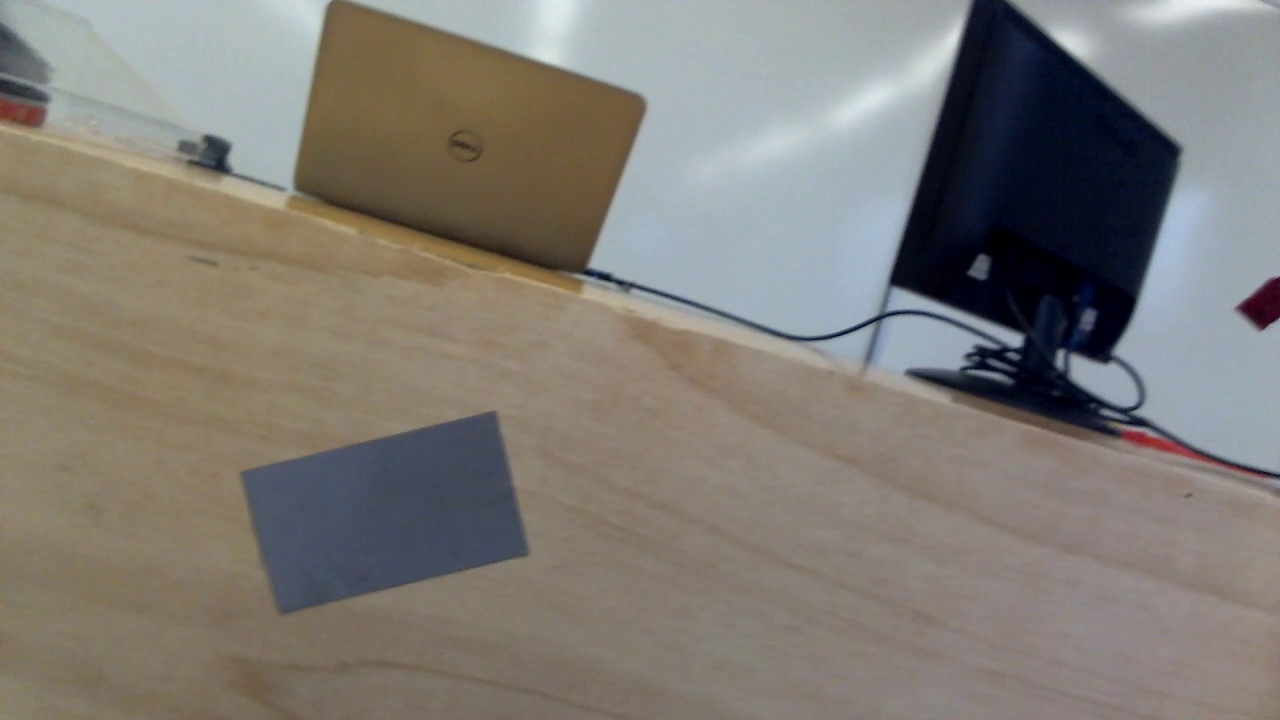Tape: (240, 409, 536, 620)
